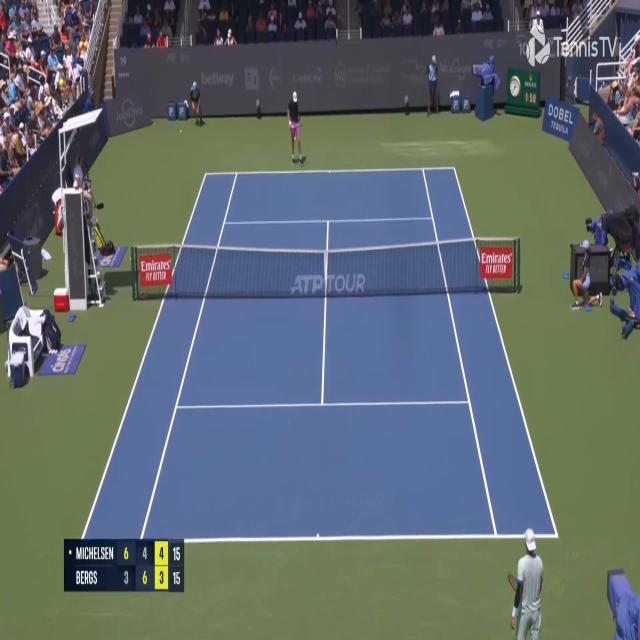tennis-player: (506, 526, 543, 640), (286, 89, 305, 166)
